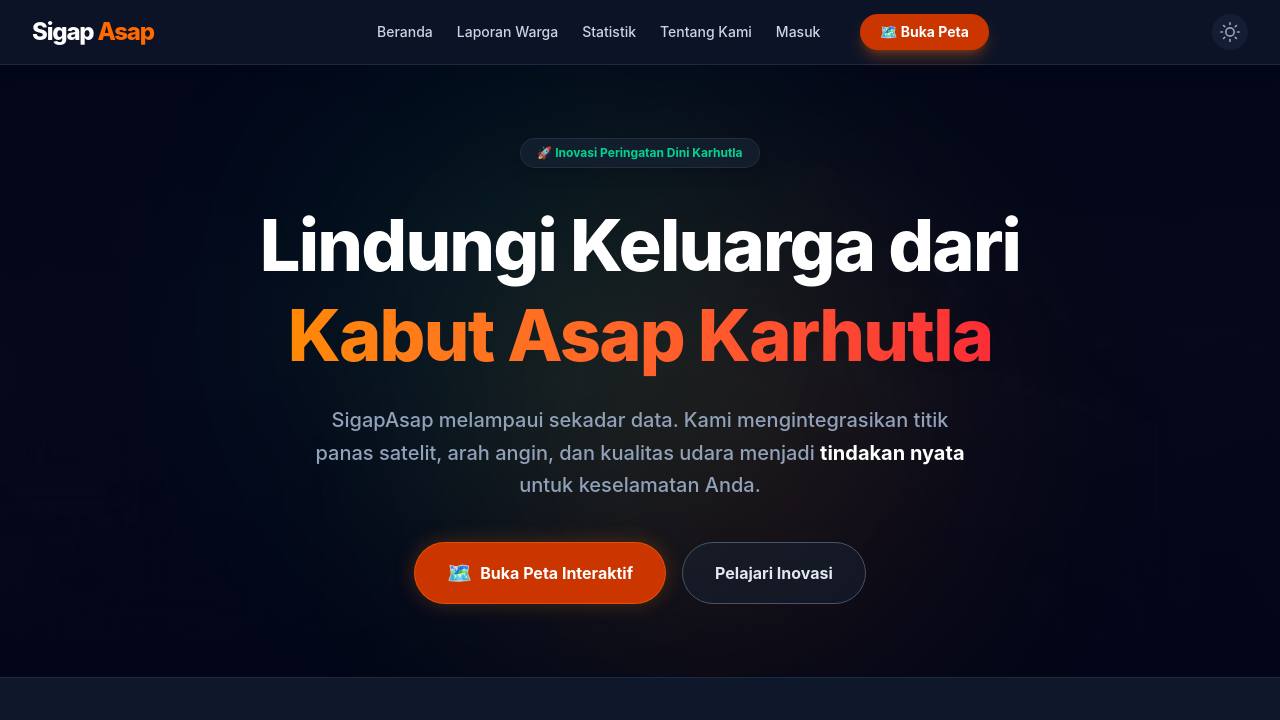
Scenario: SPA navigation › navigates to the about page without reloading
Expected: the heading "Lindungi Keluarga dari Kabut Asap Karhutla" is shown, [260, 200, 1020, 380]
Click the link "Pelajari Inovasi" at (774, 573), box [682, 542, 866, 604]
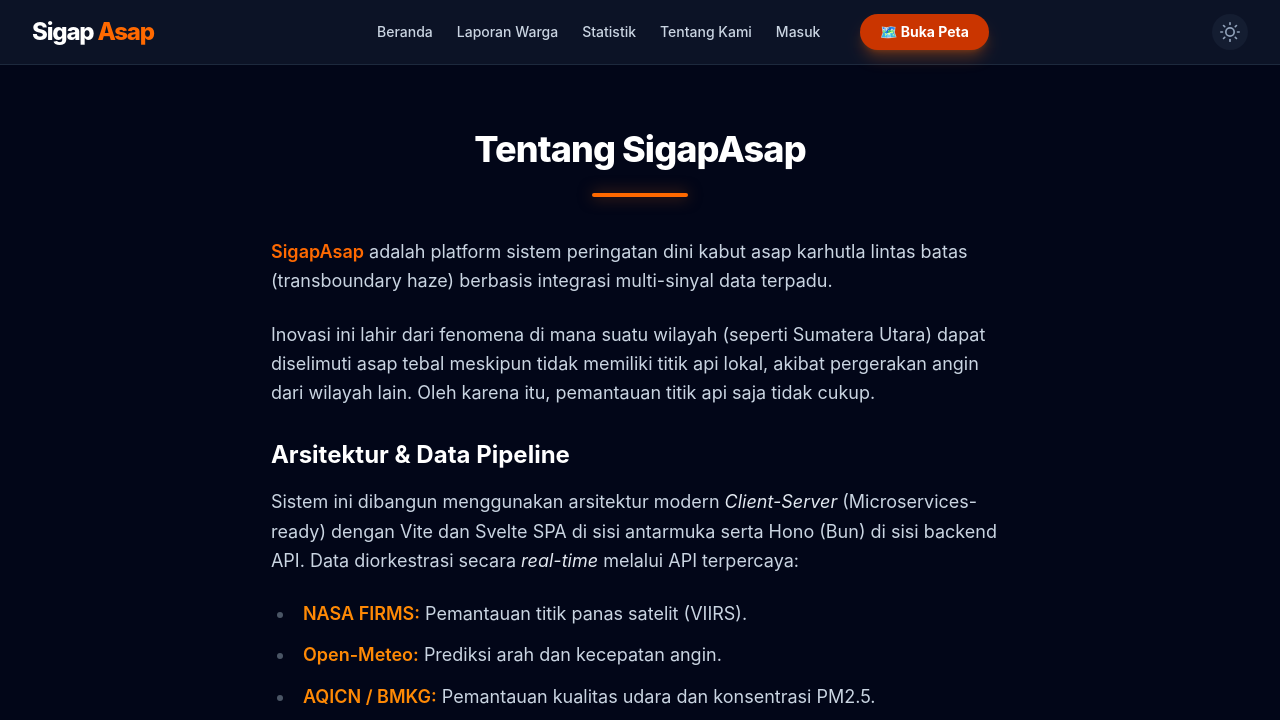
Now the heading "Tentang SigapAsap" is shown, box [474, 127, 806, 171]
